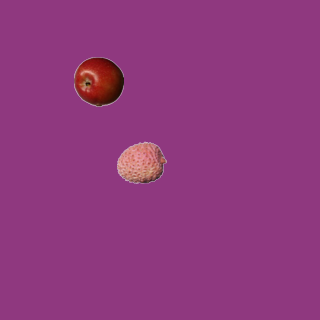Apple Braeburn: (73, 56, 123, 106)
Lychee: (116, 137, 166, 187)
